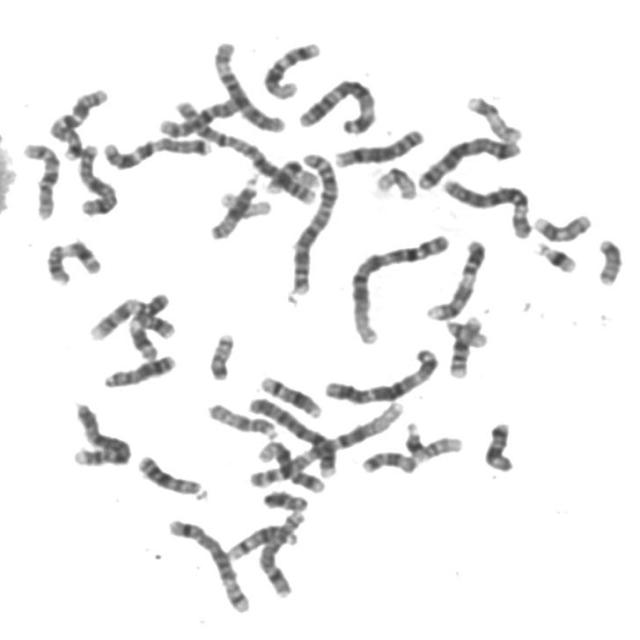A1: (245, 394, 408, 490), (345, 227, 453, 346)
A2: (164, 93, 320, 206), (284, 146, 340, 296)
A3: (318, 341, 442, 406), (292, 72, 379, 135)
B4: (243, 390, 341, 480), (65, 396, 132, 468)
B5: (161, 512, 252, 615), (412, 130, 524, 192)
C10: (154, 88, 250, 140), (16, 135, 62, 221)
C11: (123, 288, 172, 361), (40, 234, 103, 287)
C12: (252, 434, 326, 494), (257, 35, 323, 100)
C6: (209, 34, 287, 134), (437, 171, 534, 240)
C7: (41, 80, 110, 161), (96, 130, 215, 172)
C8: (253, 504, 307, 600), (328, 122, 426, 168)
C9: (421, 233, 488, 322), (84, 289, 174, 342)
D13: (132, 448, 210, 501), (98, 348, 178, 389)
D14: (253, 368, 325, 419), (222, 518, 304, 562)
D15: (204, 168, 262, 242), (202, 396, 280, 440)
E16: (443, 309, 486, 380), (267, 156, 322, 196)
E17: (460, 89, 525, 145), (528, 207, 594, 244)
E18: (477, 416, 517, 474), (356, 444, 420, 476)
F19: (370, 161, 419, 201), (214, 186, 273, 218)
F20: (202, 326, 237, 382), (591, 232, 624, 288)
G21: (529, 235, 579, 275), (399, 416, 428, 461)
G22: (440, 315, 490, 349), (415, 431, 464, 462)
X: (71, 138, 120, 218)
Y: (257, 484, 311, 513)
